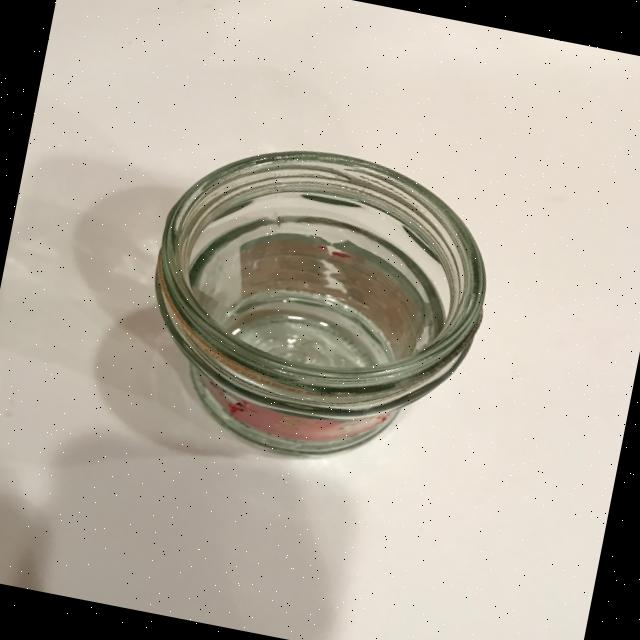glass: (124, 122, 508, 488)
